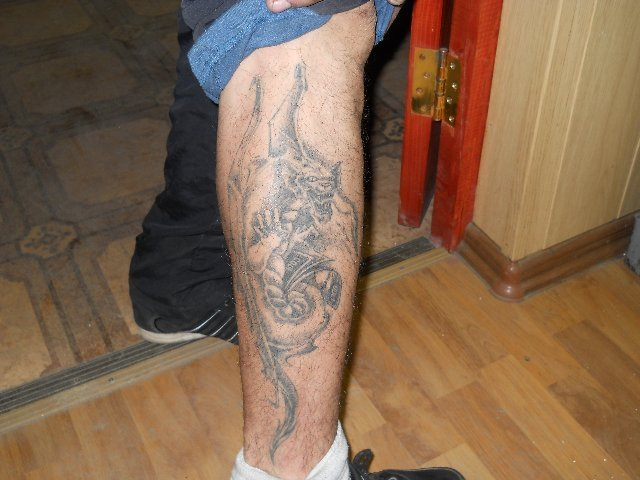tatu3_bukva: (219, 66, 358, 476)
